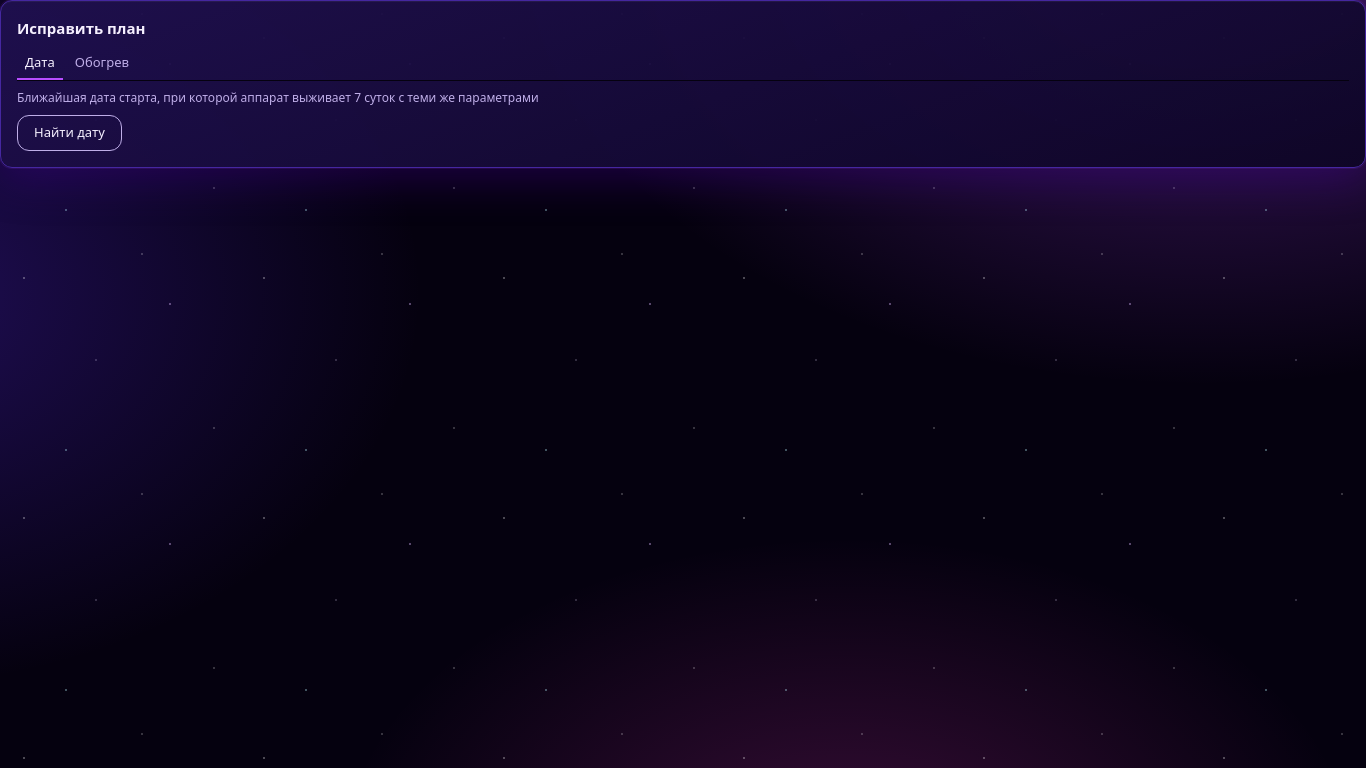
Test: heater tab › shows the headroom when the current heater is fine
The image size is (1366, 768).
Click the tab "Обогрев": {"x": 102, "y": 64} [67,48,137,80]
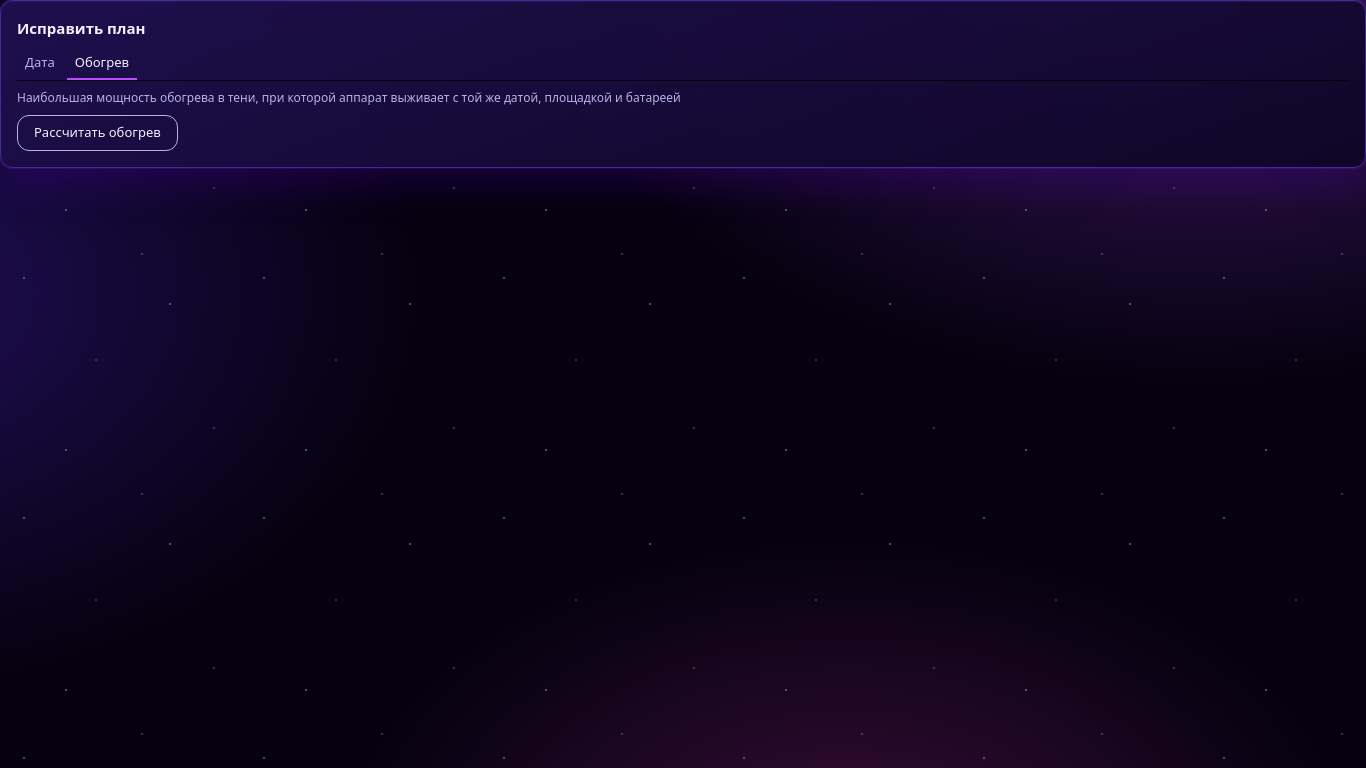
Click the button "Рассчитать обогрев": {"x": 97, "y": 132} [17,114,178,150]
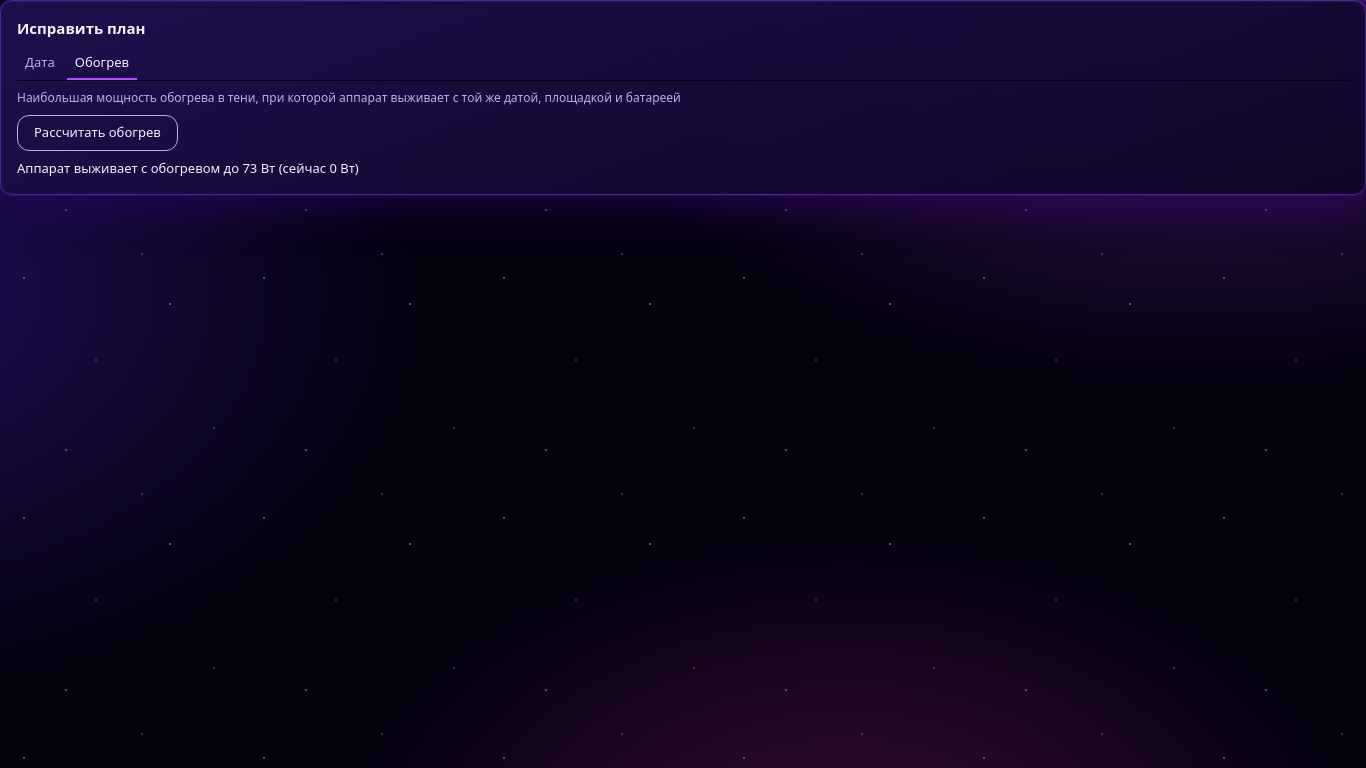
Now the message reads "Аппарат выживает с обогревом до 73 Вт (сейчас 0 Вт)", box [17,158,359,176]
